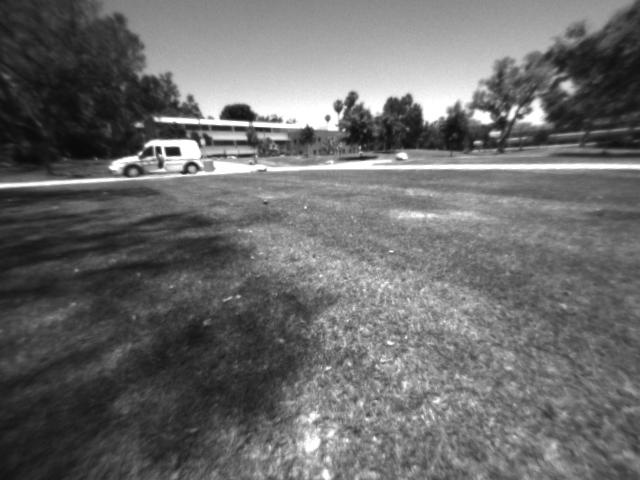dogtoy: (254, 192, 283, 211)
